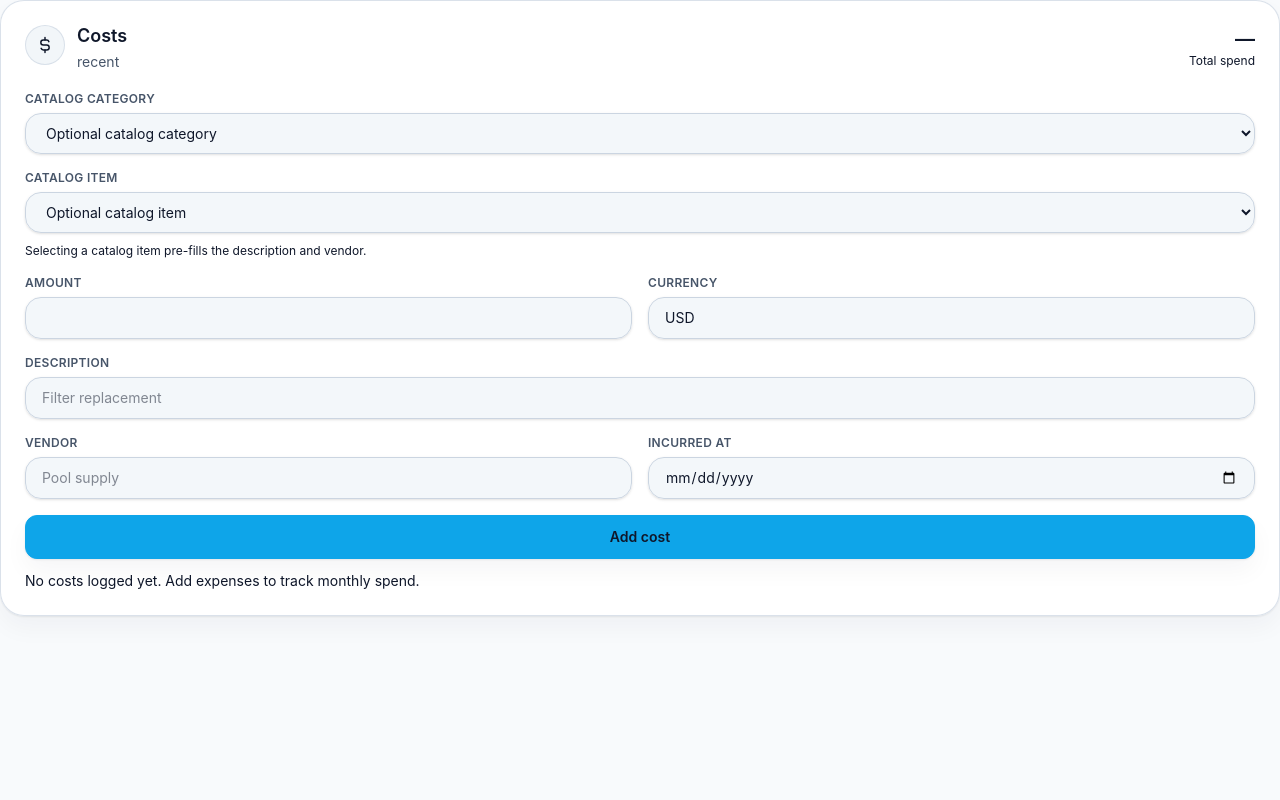
Test case: CostsCard › prefills description and vendor from a selected catalog item
Select "Balancers" in the dropdown labelled "Catalog category" at (640, 133), box x1=25 y1=113 x2=1255 y2=154
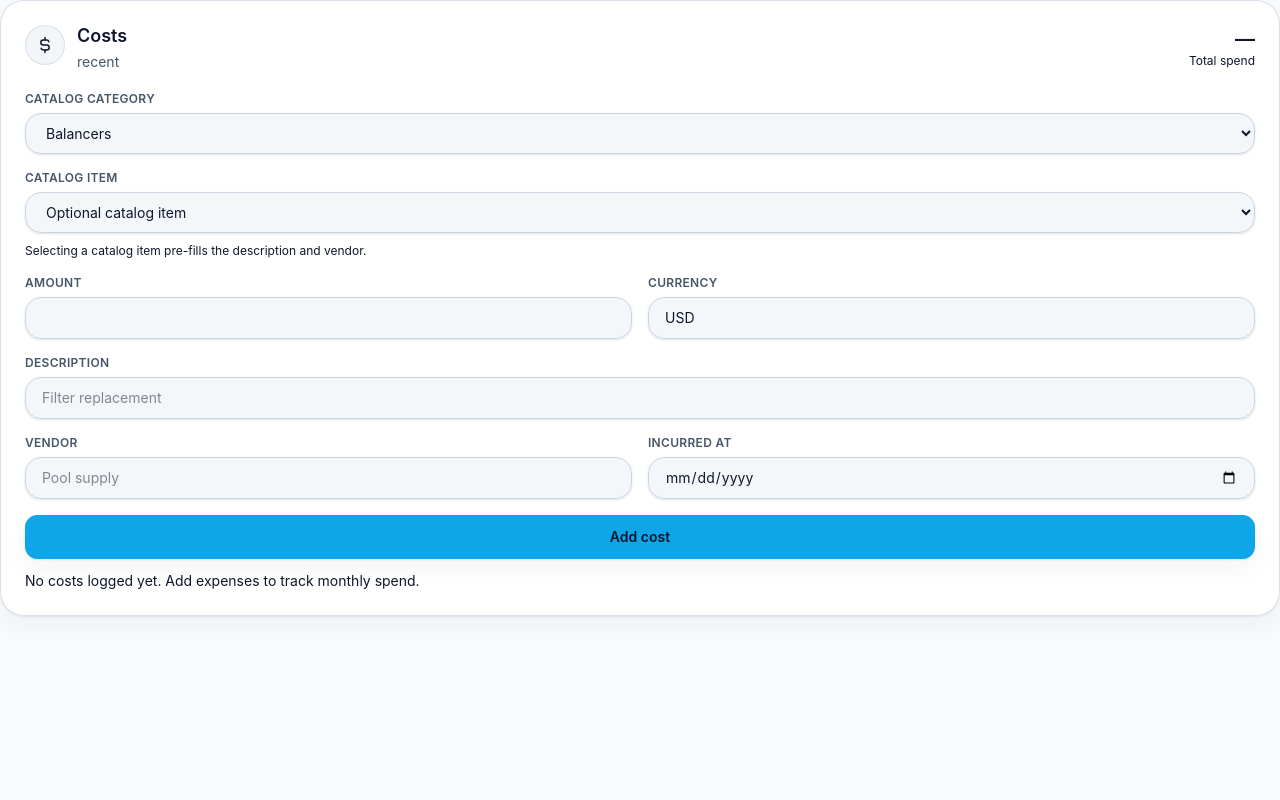
Select "Champion Champion Muriatic Acid" in the dropdown labelled "Catalog item" at (640, 212), box x1=25 y1=192 x2=1255 y2=233
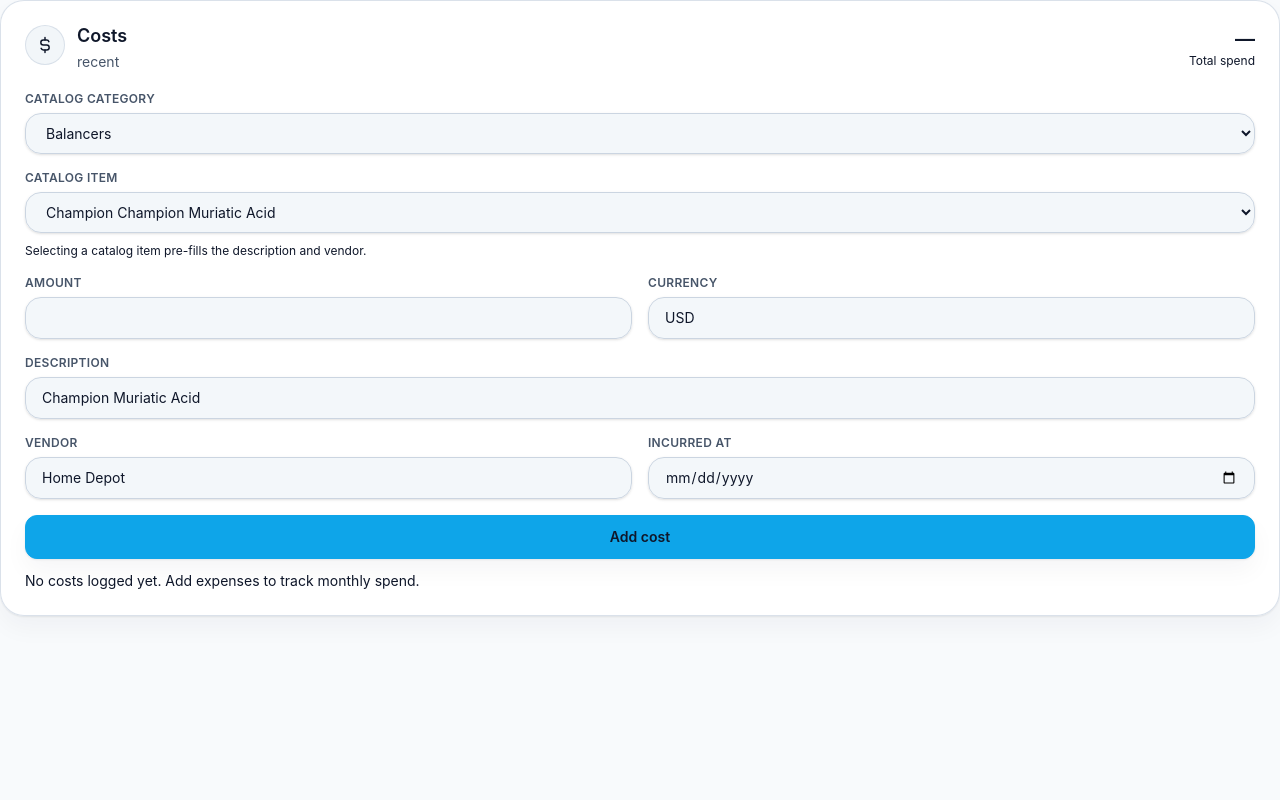
Check: the field labelled "Description" holds "Champion Muriatic Acid", box x1=25 y1=377 x2=1255 y2=419
Check: the field labelled "Vendor" holds "Home Depot", box x1=25 y1=457 x2=632 y2=499
